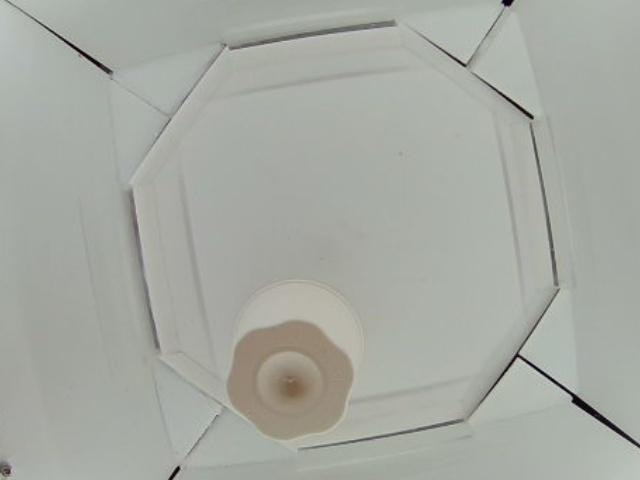Cup: (227, 279, 364, 444)
